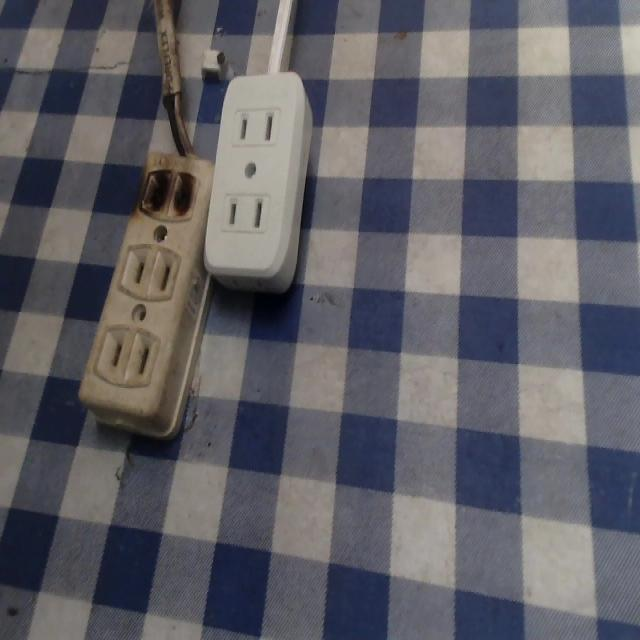-: (136, 162, 207, 222)
